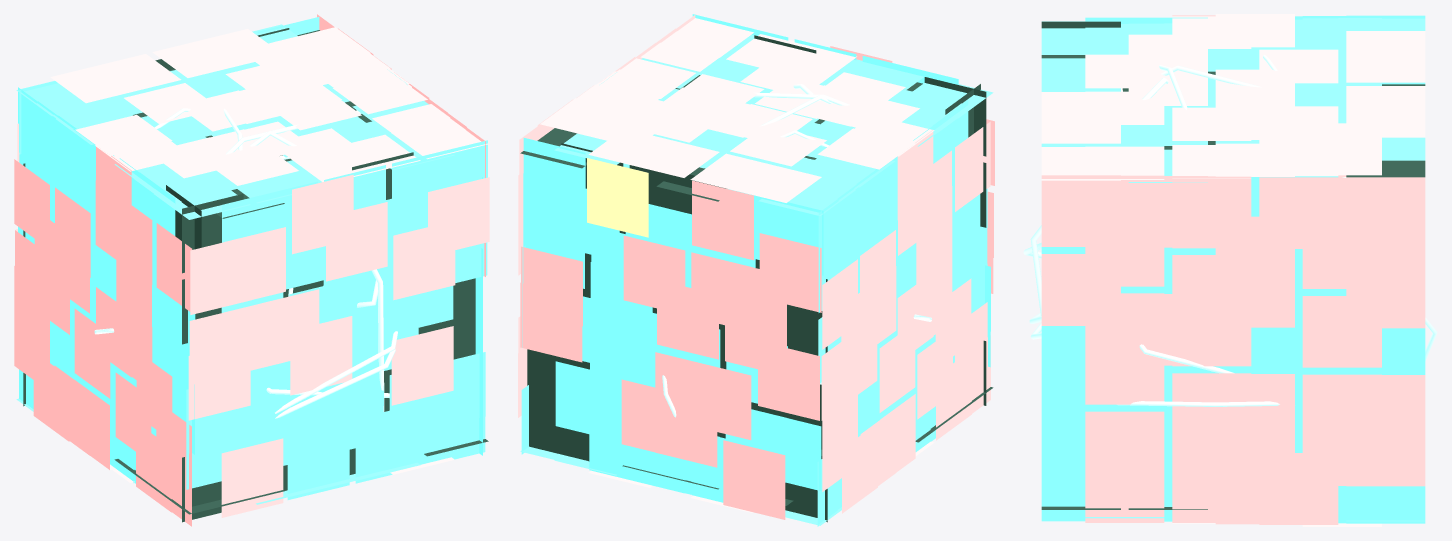
File: lattice-cube-384.glb
The picture shows the model from 3 angles, left to right: view 1: azimuth 30°, elevation 25°; view 2: azimuth 150°, elevation 25°; view 3: azimuth 270°, elevation 25°; orthographic projection. The views are drawn at different scales.
Parts seen in each view (by area): view 1: LatticeCube384, TickPulseLines; view 2: LatticeCube384, TickPulseLines; view 3: LatticeCube384, TickPulseLines.
Boxes of the visible parts, x1,y1,x2,y2 form: LatticeCube384: [14, 14, 489, 526]; TickPulseLines: [94, 108, 397, 418]; LatticeCube384: [518, 14, 994, 526]; TickPulseLines: [662, 84, 931, 417]; LatticeCube384: [1041, 14, 1425, 526]; TickPulseLines: [1023, 54, 1437, 406].
Size of the model in its own units: 4.83 by 4.74 by 4.76.
